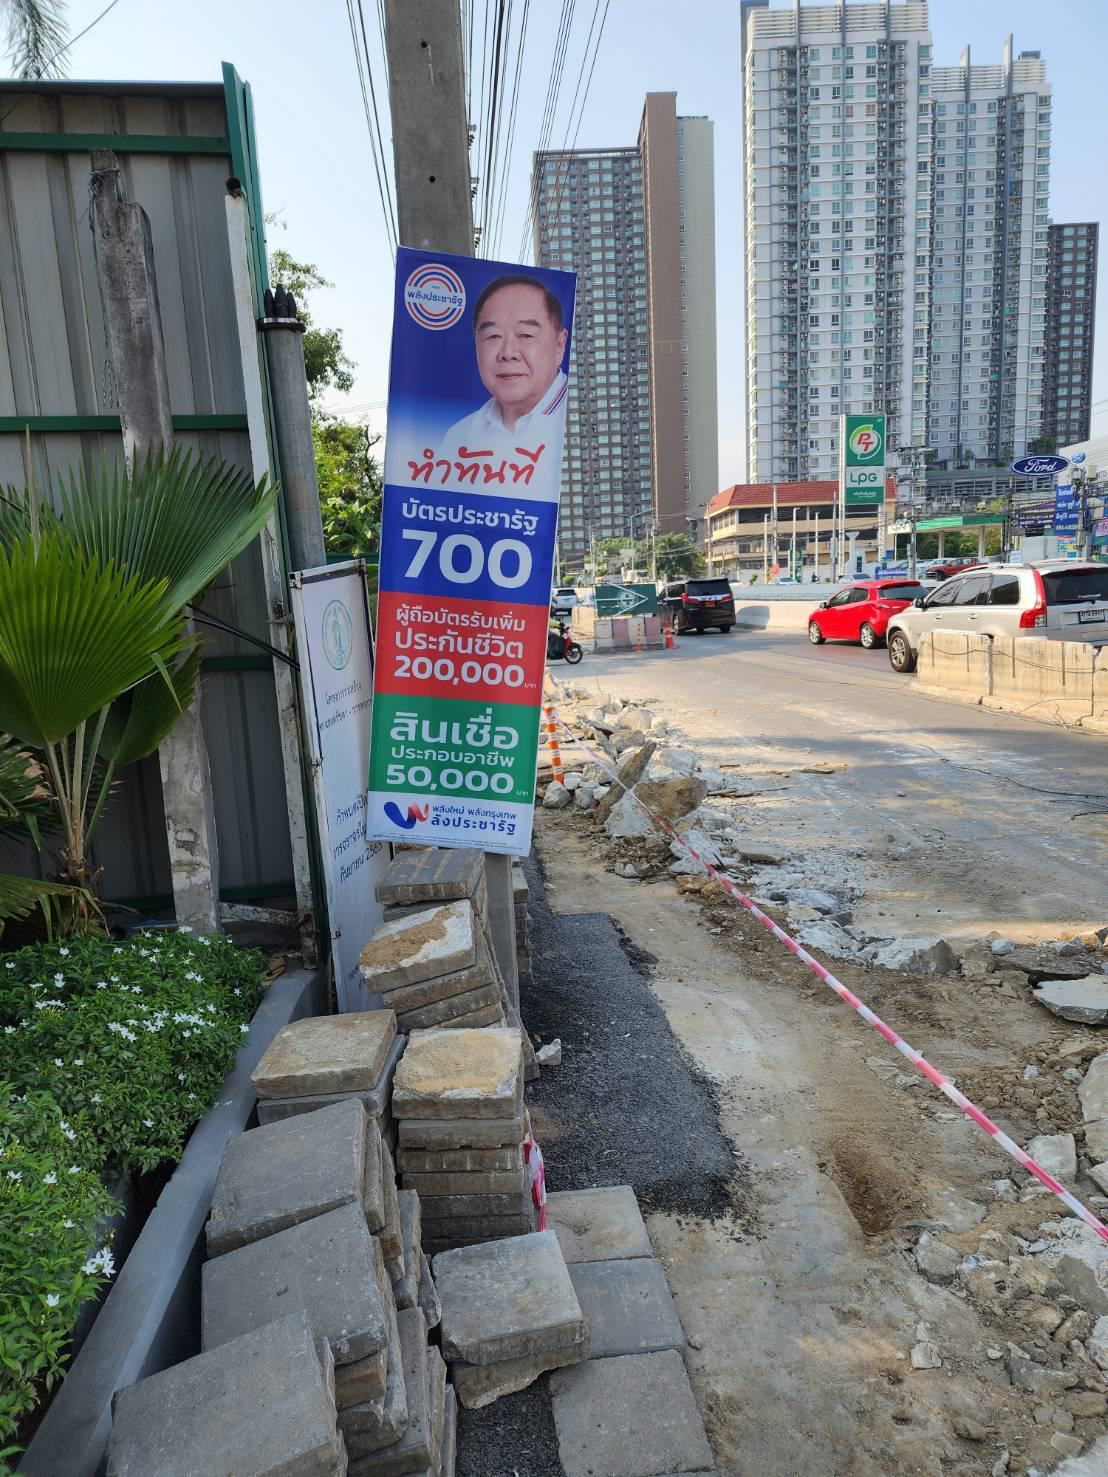Banner: (332, 210, 556, 871)
